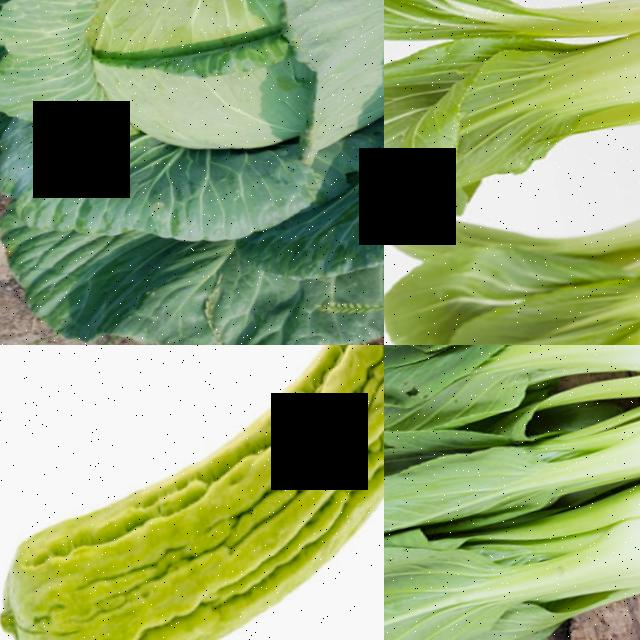bitter gourd: (0, 345, 384, 640)
bok choy: (384, 0, 640, 264), (384, 351, 640, 562), (384, 434, 640, 640), (384, 345, 640, 467), (432, 196, 640, 345)
cabbage: (0, 0, 384, 345)
